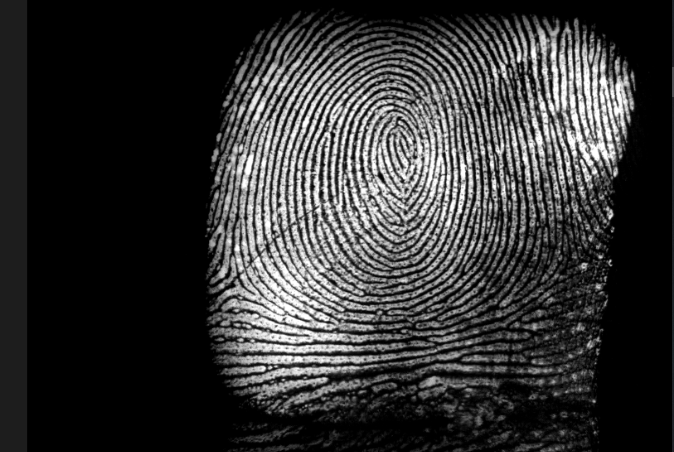nucelo: (383, 126, 416, 171)
verticilo: (217, 261, 259, 304), (563, 235, 596, 266)
